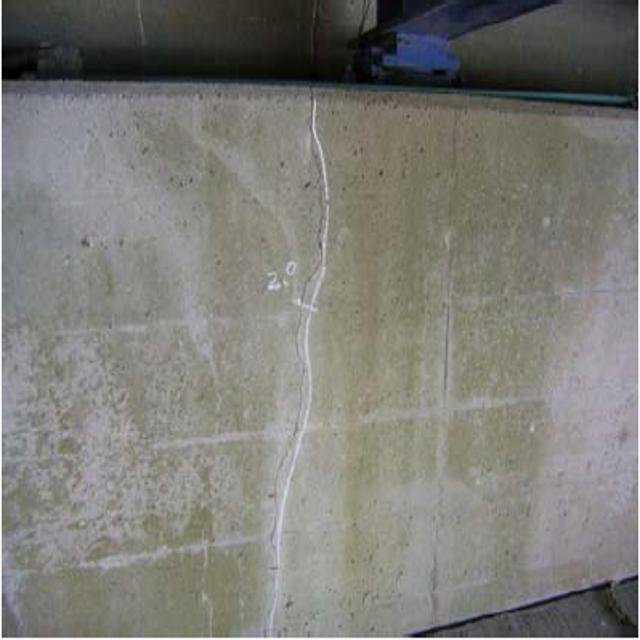crack: (284, 90, 344, 537), (432, 189, 474, 497)
